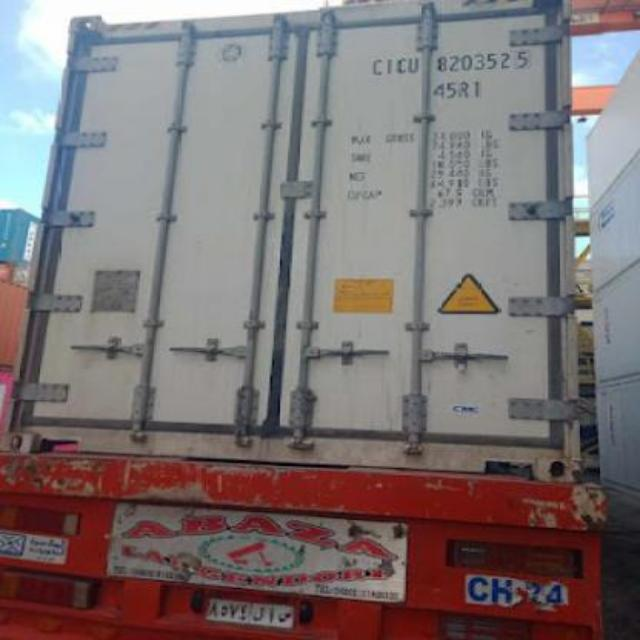0: (458, 47, 472, 71)
2: (498, 41, 510, 71), (446, 50, 458, 74)
3: (472, 47, 484, 71)
5: (514, 46, 532, 70), (484, 47, 496, 71)
8: (432, 49, 446, 75)
C: (368, 52, 382, 78), (396, 47, 406, 77)
I: (381, 54, 394, 76)
U: (406, 48, 419, 76)
